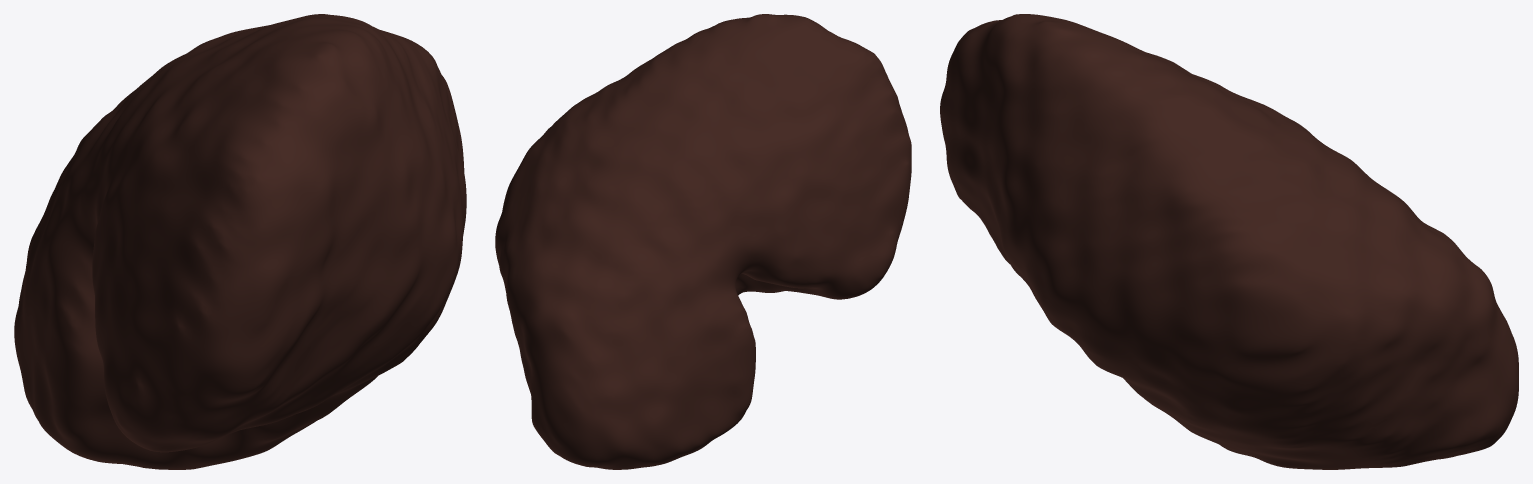
File: left kidney.obj
3 views of the same model, side by side, from view 1: azimuth 30°, elevation 25°; view 2: azimuth 150°, elevation 25°; view 3: azimuth 270°, elevation 25° (orthographic). The views are drawn at different scales.
Parts seen in each view (by area): view 1: grp1; view 2: grp1; view 3: grp1.
Boxes of the visible parts, x1,y1,x2,y2 form: grp1: (14, 14, 466, 469); grp1: (495, 14, 911, 469); grp1: (940, 14, 1518, 469).
Bounding box in the file's own units: 68.88 × 77.76 × 93.86.
